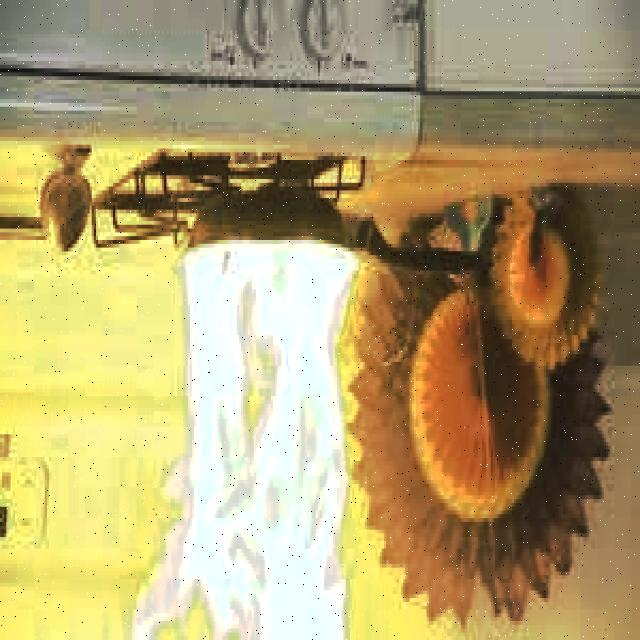api: (138, 245, 372, 630)
